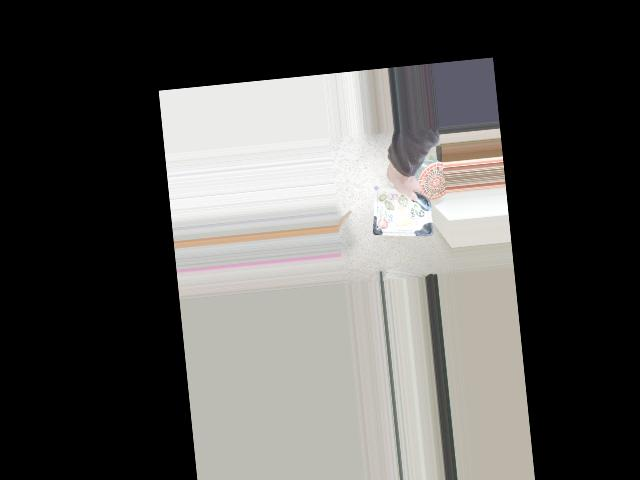cheese: (368, 173, 424, 224)
